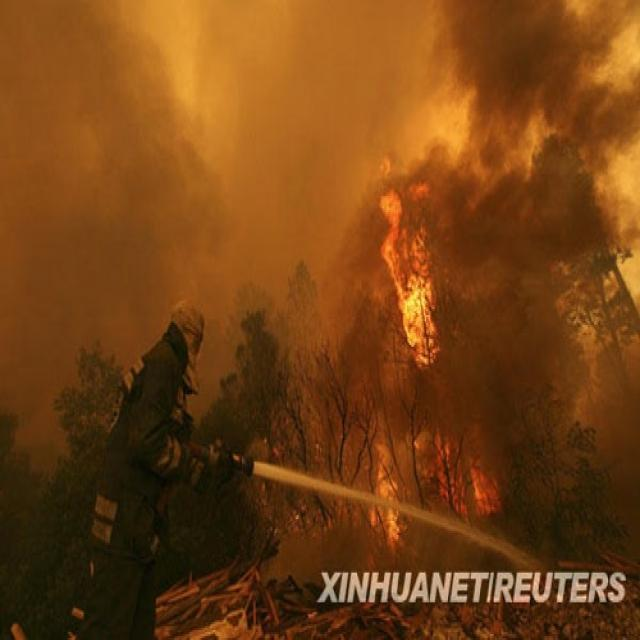Fire: (378, 156, 442, 368), (432, 432, 502, 521), (370, 442, 400, 543)
Smoke: (1, 2, 639, 583)
